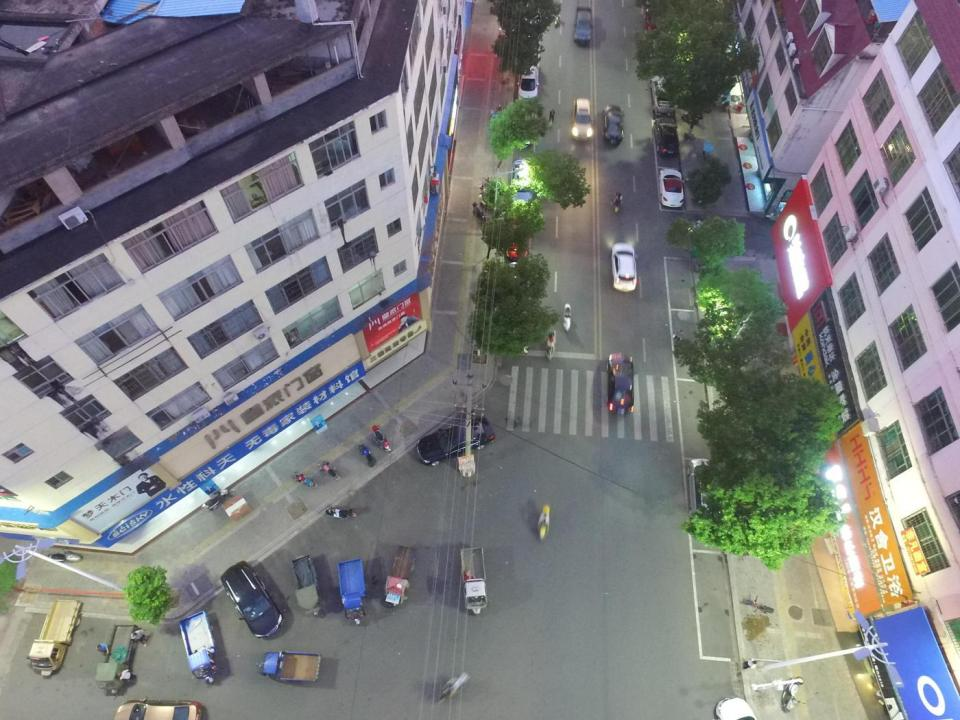car: (220, 560, 284, 639), (415, 416, 496, 467), (686, 458, 721, 522), (114, 696, 203, 720), (605, 353, 635, 414), (610, 242, 639, 292), (509, 158, 537, 208), (504, 215, 533, 262), (649, 74, 678, 116), (658, 168, 685, 209), (653, 116, 679, 156), (570, 98, 594, 141), (603, 104, 625, 145), (516, 65, 540, 102)
truck: (574, 6, 592, 46)
